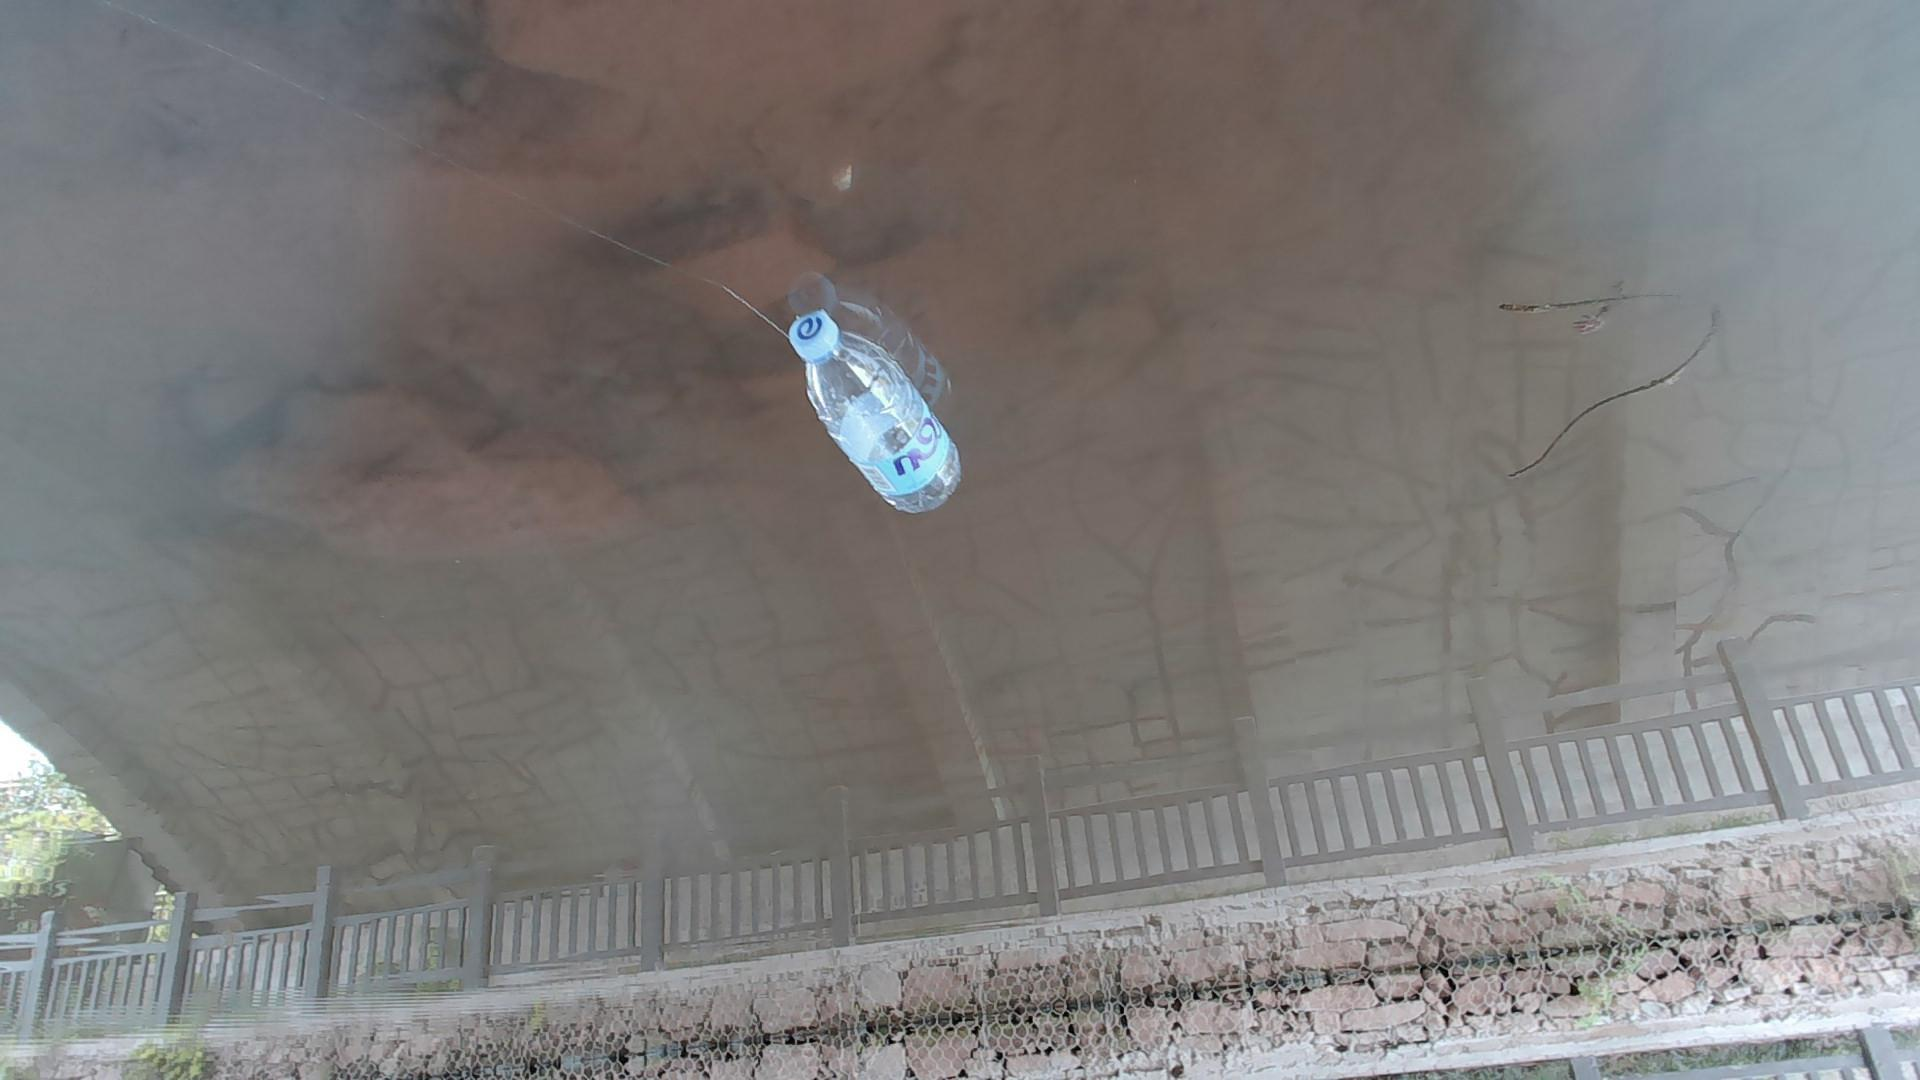Plastic: (781, 309, 963, 522)
